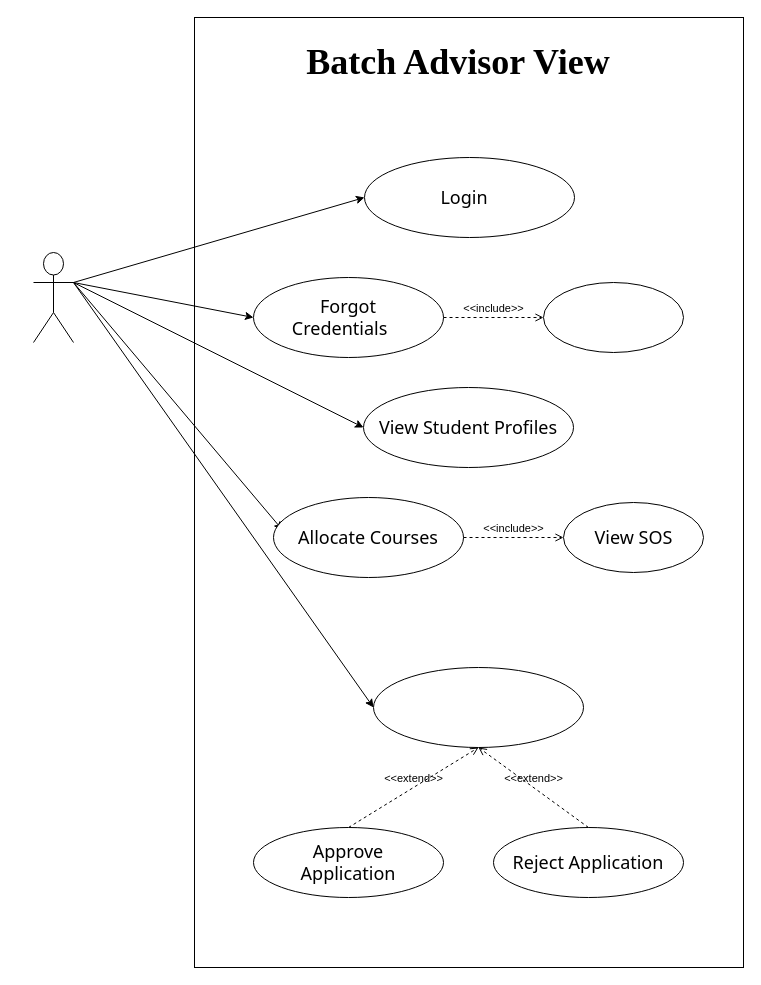
This 761x985 diagram has some shape labels left out. Here are the shapes that lost their labels. From the top down, the centre of each, then its label:
At point 53,297: "Batch Advisor".
At point 613,317: "Contact Admin".
At point 478,707: "View Application".
